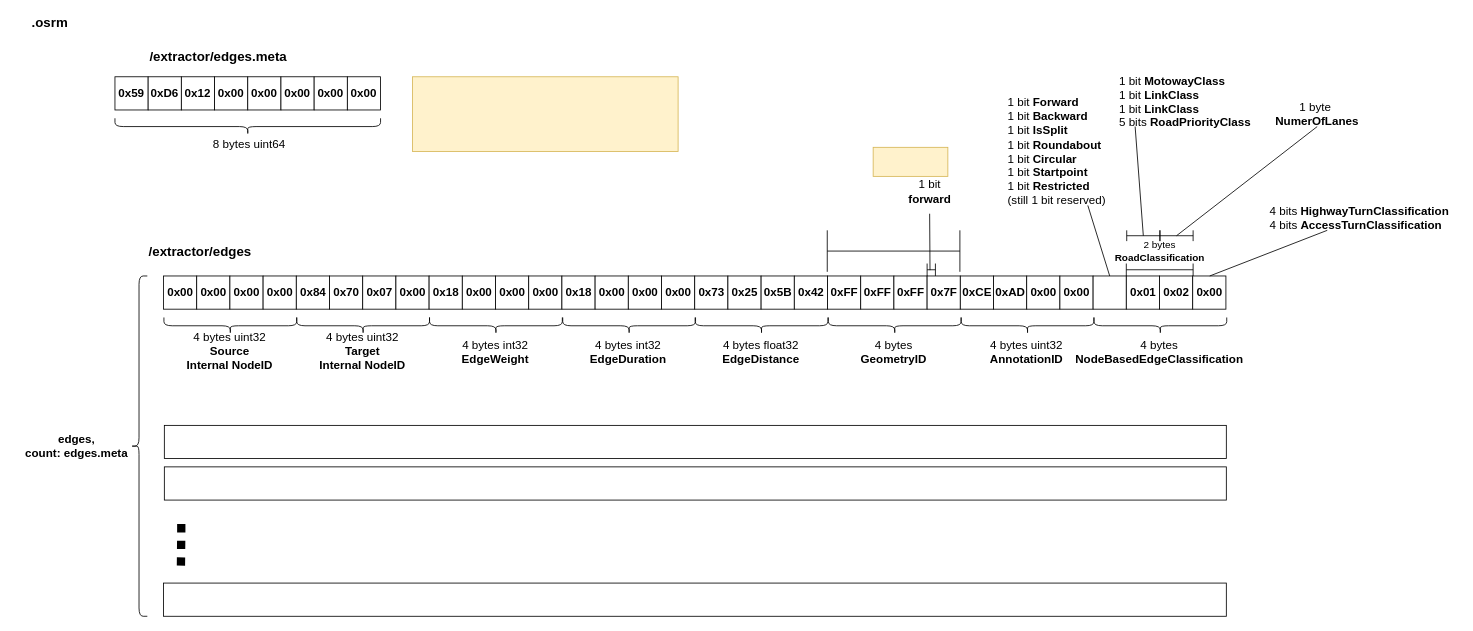
The diagram is 1473 pixels wide and 631 high, and some of its shapes have lost their labels. Each missing label, with the centre of its shape:
0x21: point 1109,292
31 bits Internal NodeID: point 893,250
Due to LittleEndian: point 910,161
Indicates how many edges stored in /extractor/edges Sample value: 1234521: point 545,113
